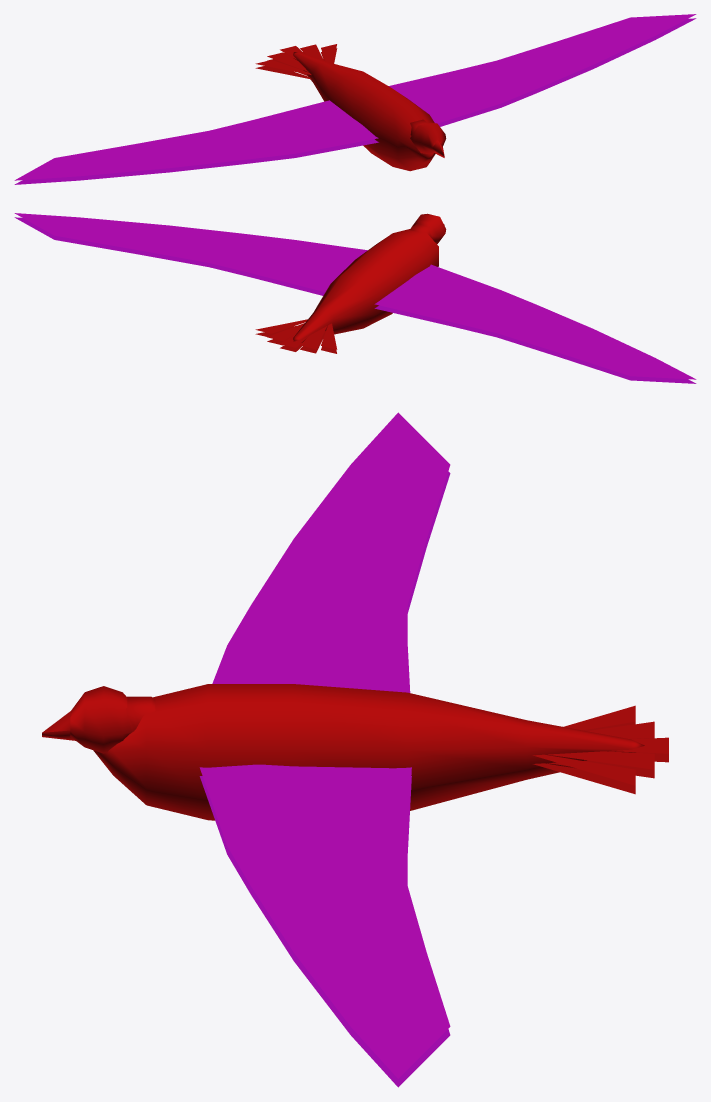
The model's file is audouin.glb.
3 renders of one model, top to bottom at view 1: azimuth 30°, elevation 25°; view 2: azimuth 150°, elevation 25°; view 3: azimuth 270°, elevation 25°, orthographic. The views are drawn at different scales.
Visible parts, largest first — view 1: bird; view 2: bird; view 3: bird.
Boxes of the visible parts, left/top/right/bottom form: bird: left=14, top=14, right=696, bottom=184; bird: left=14, top=213, right=696, bottom=383; bird: left=42, top=412, right=668, bottom=1087.
Bounding box in the file's own units: 1.3 × 0.1094 × 0.5156.
